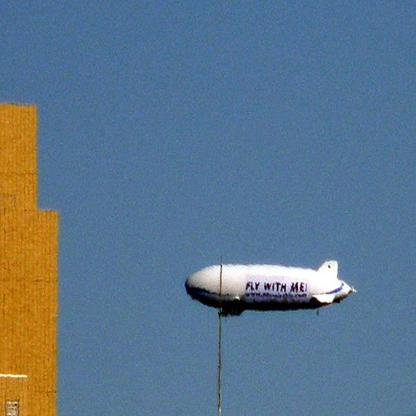Airship: (181, 253, 360, 325)
